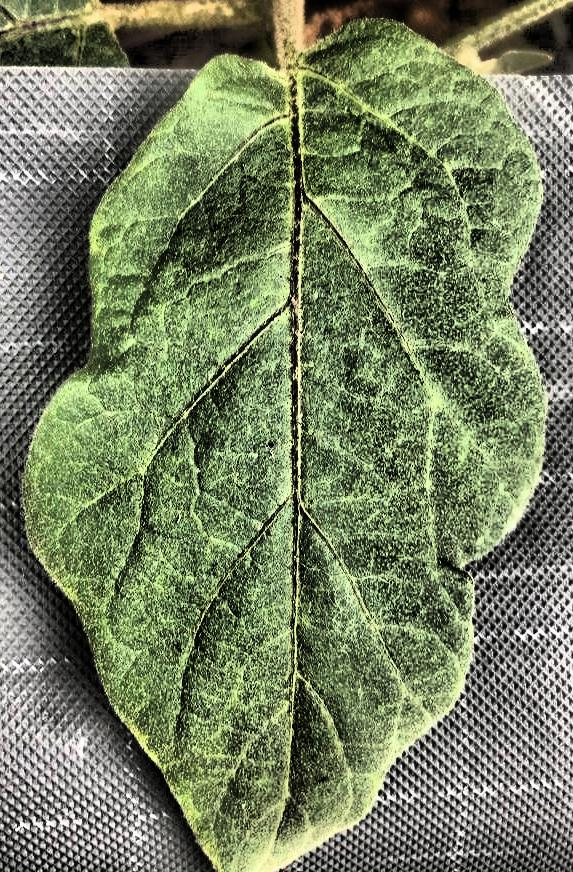HEALTHY: (0, 1, 573, 872)
